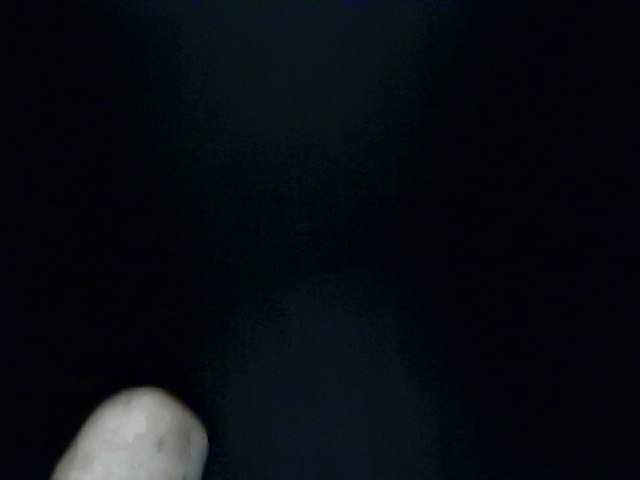QTLJ: (451, 1, 622, 143)
